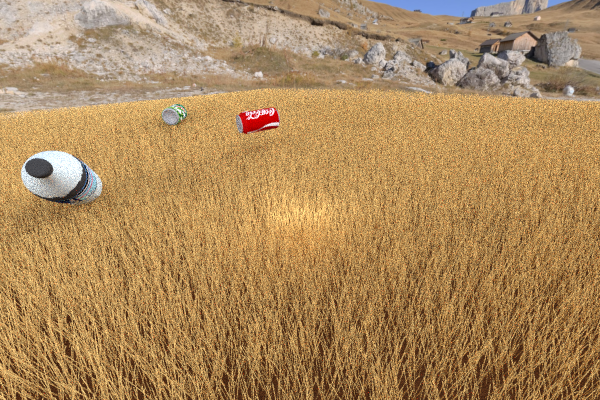bottle: (21, 150, 102, 204)
can: (235, 107, 279, 134), (161, 104, 186, 125)
